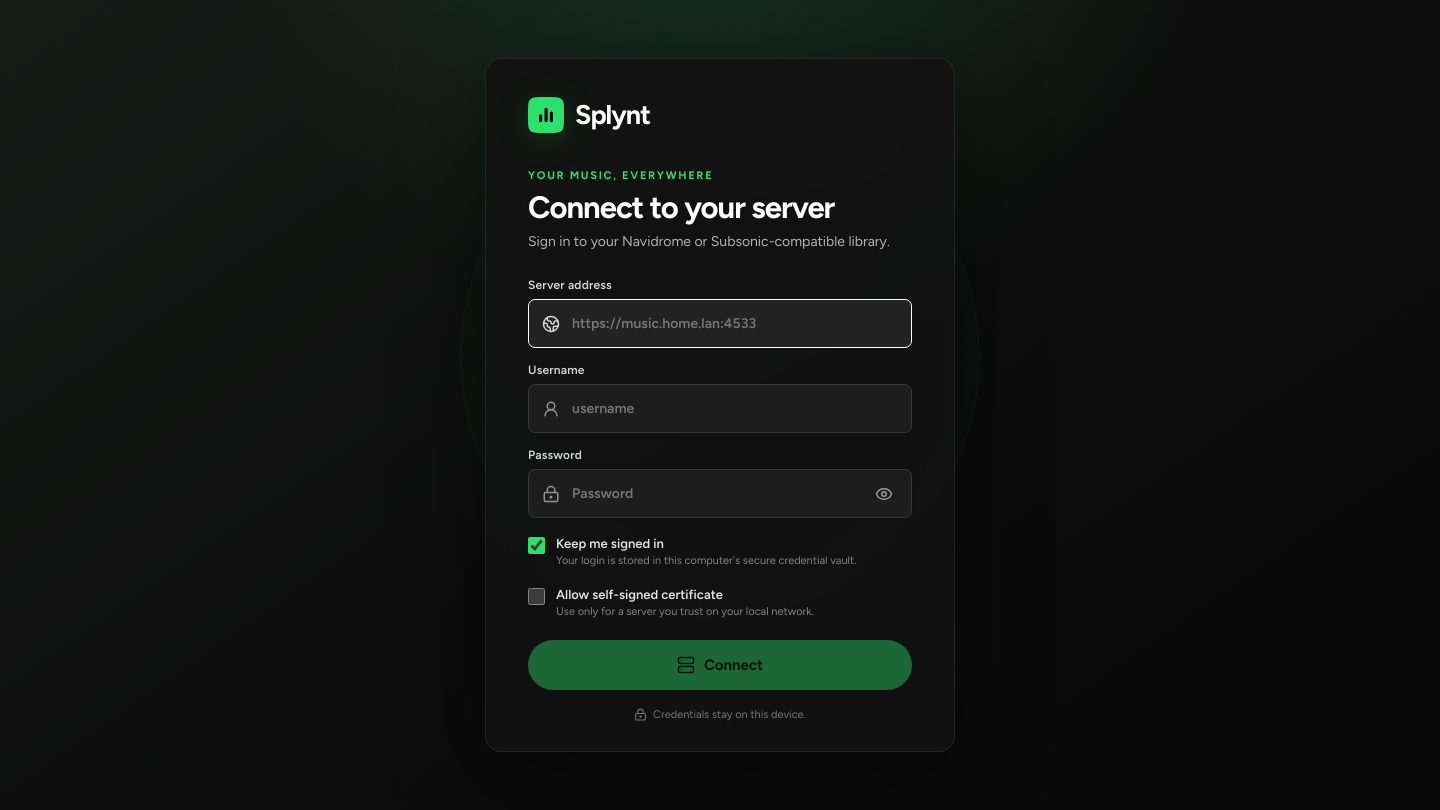
it: Splynt Desktop authentication › keeps login visible after a rejected connection
This screenshot has width=1440, height=810.
Type "https://music.example.test" into the field labelled "Server address" at (734,324), box [570,314,898,333]
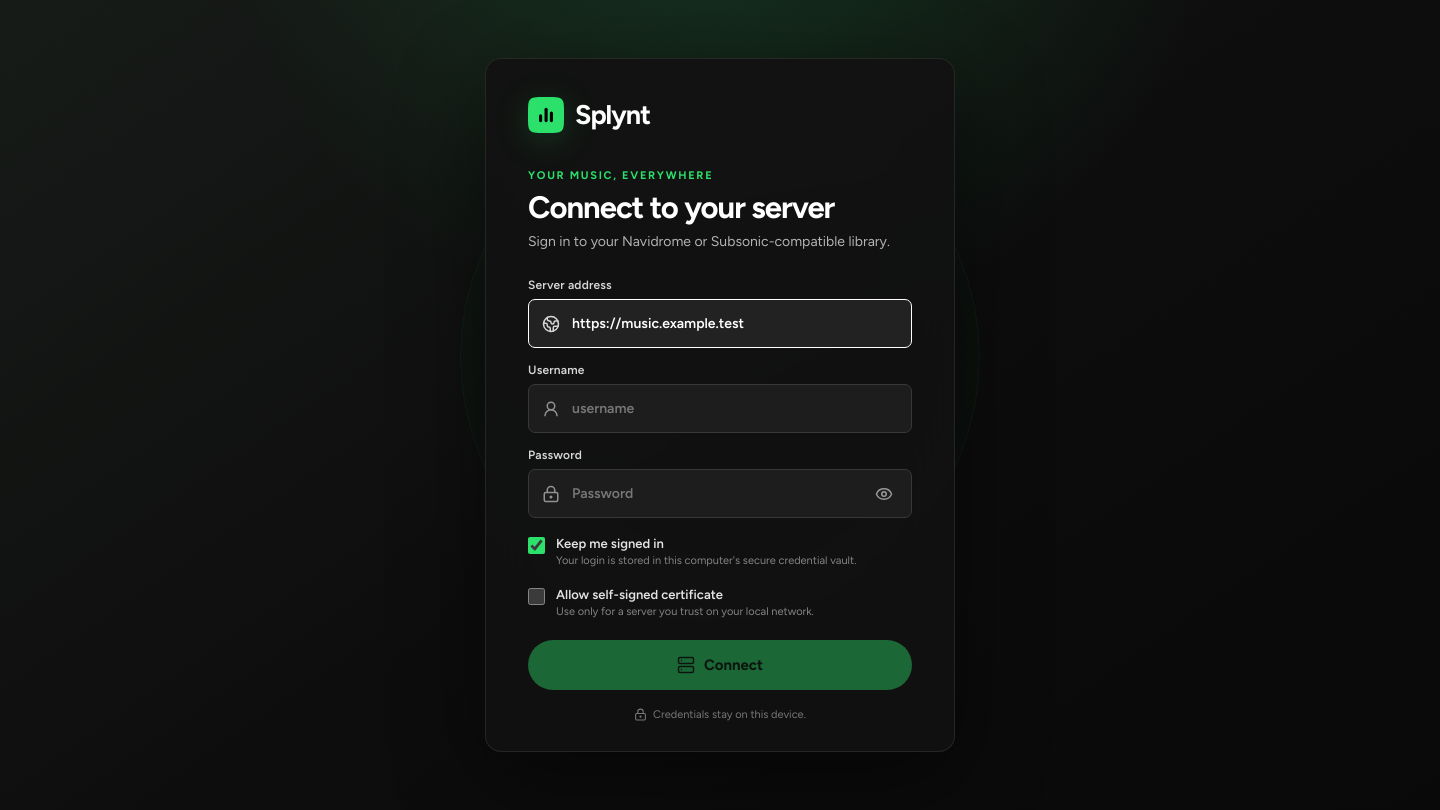
Type "elijah" into the field labelled "Username" at (734,409), box [570,399,898,418]
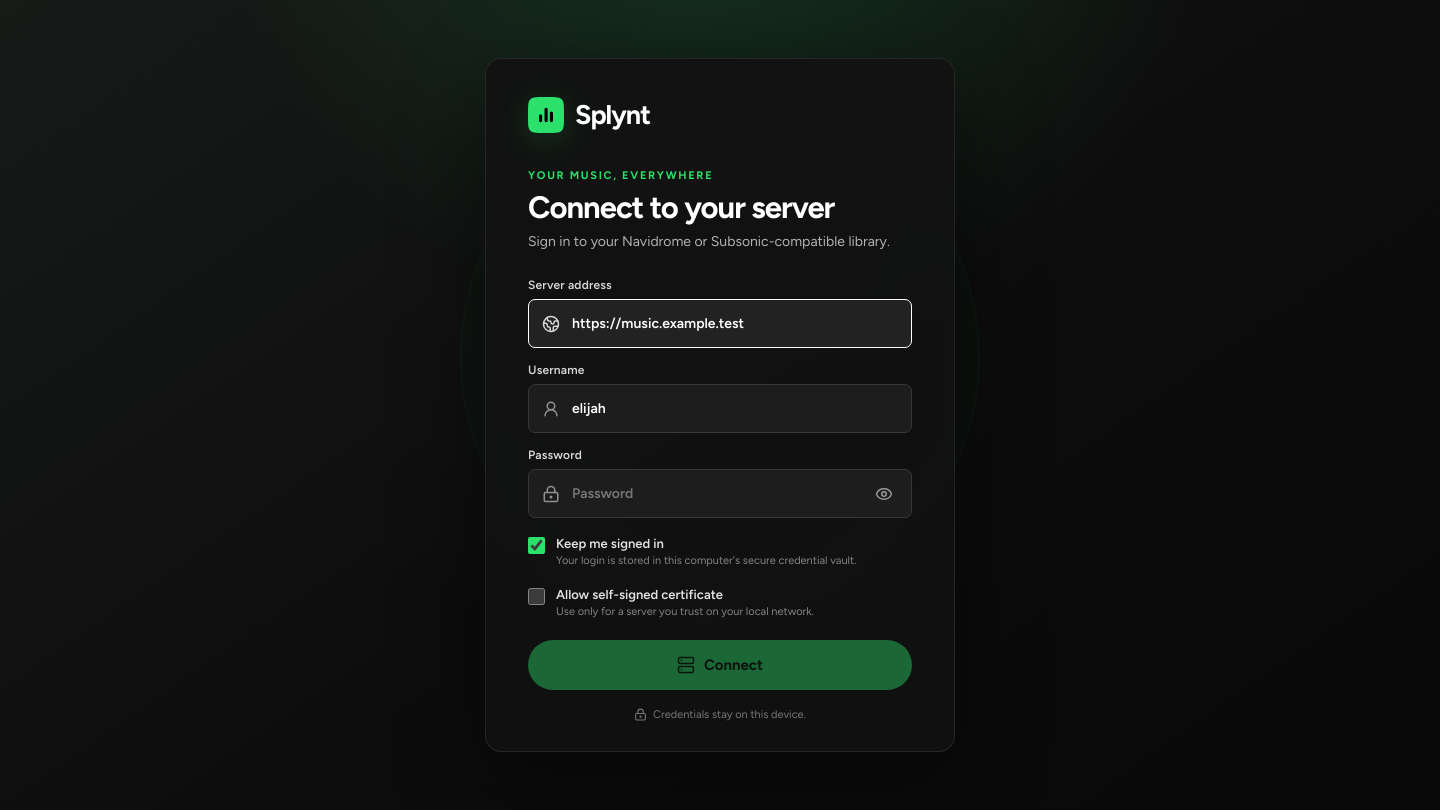
Type "wrong" into the password field labelled "Password" at (715,494), box [570,484,860,503]
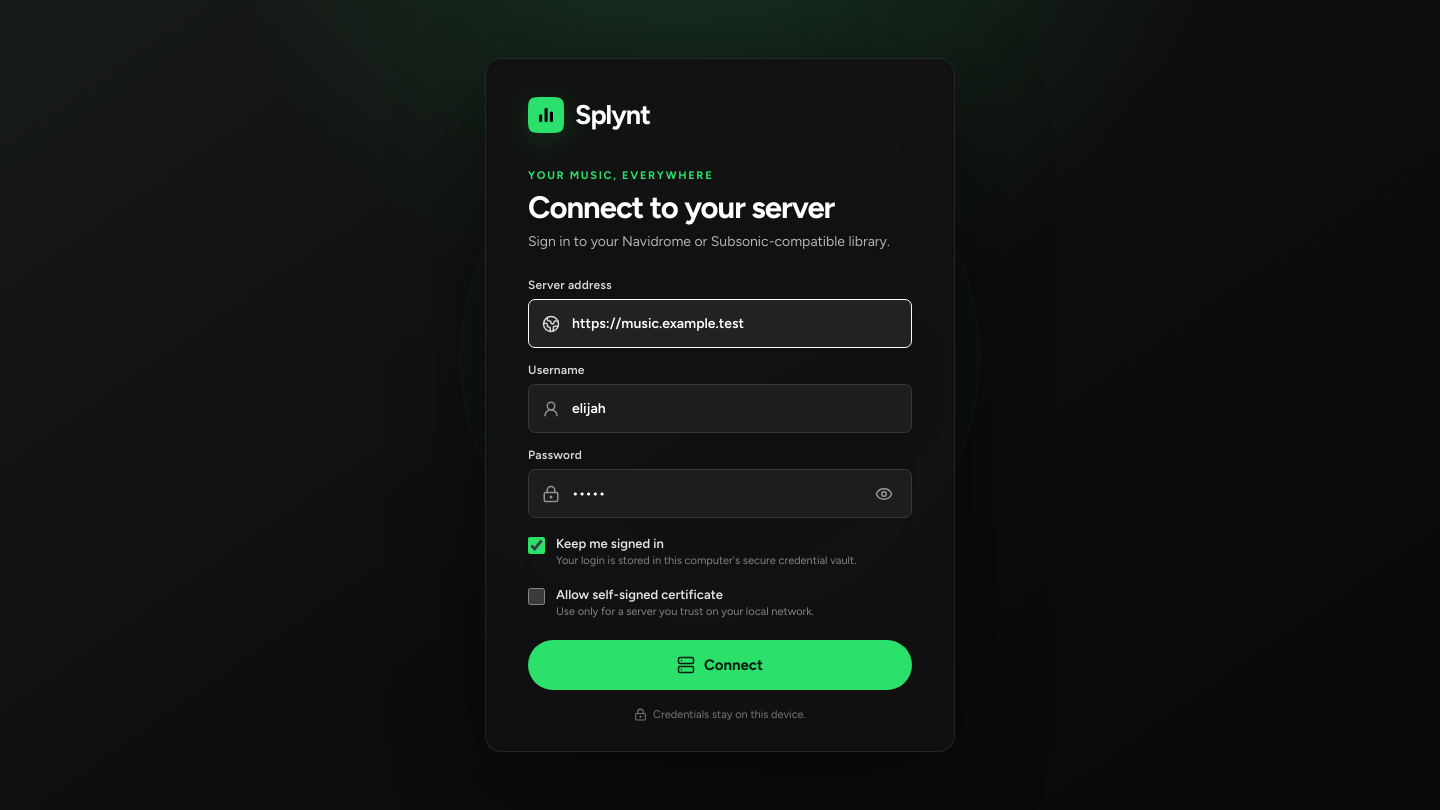
Click the button "Connect" at (720,665), box [528,640,912,690]
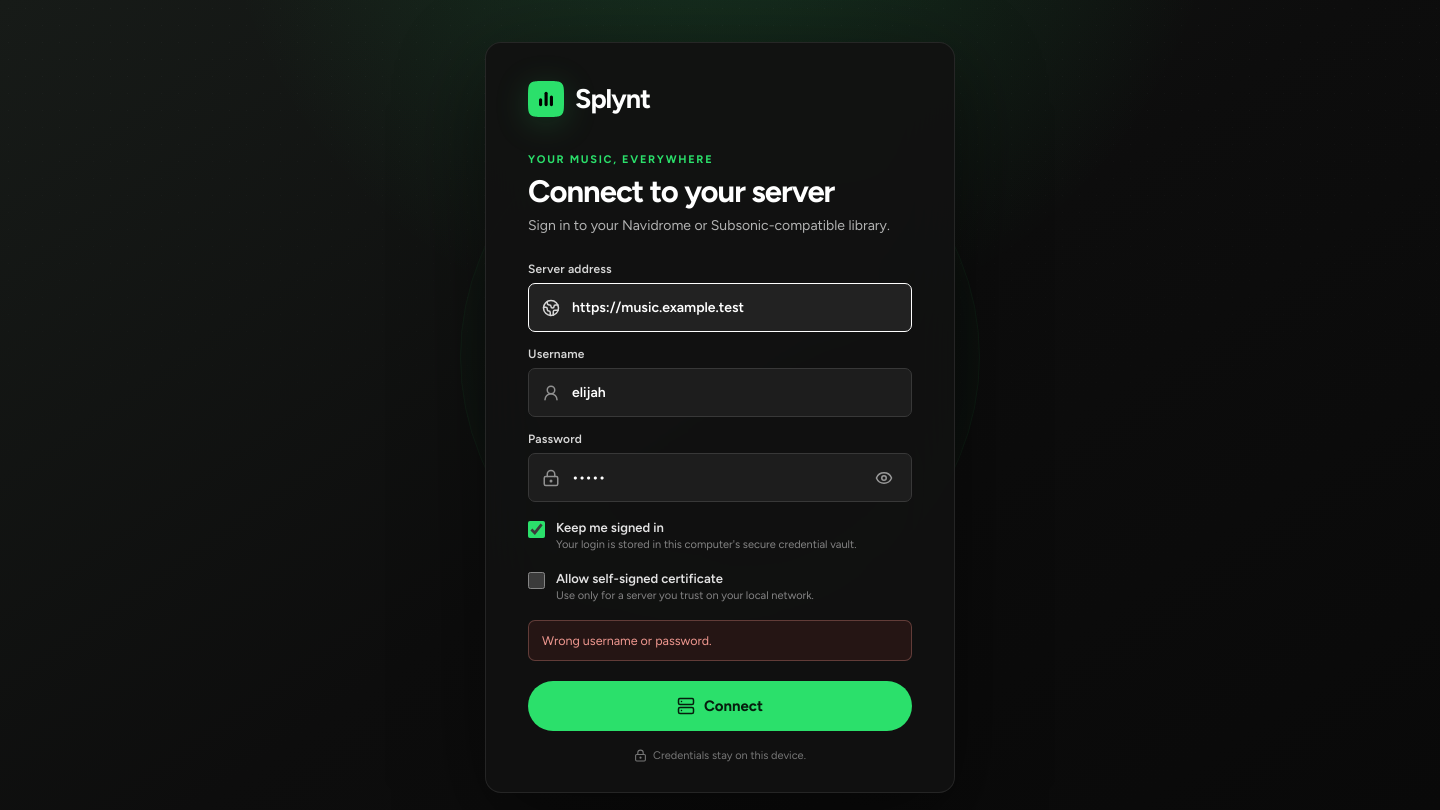
Expected: the heading "Connect to your server" is shown, [528,173,834,210]
Result: the message reads "Wrong username or password." at [542,633,712,648]
